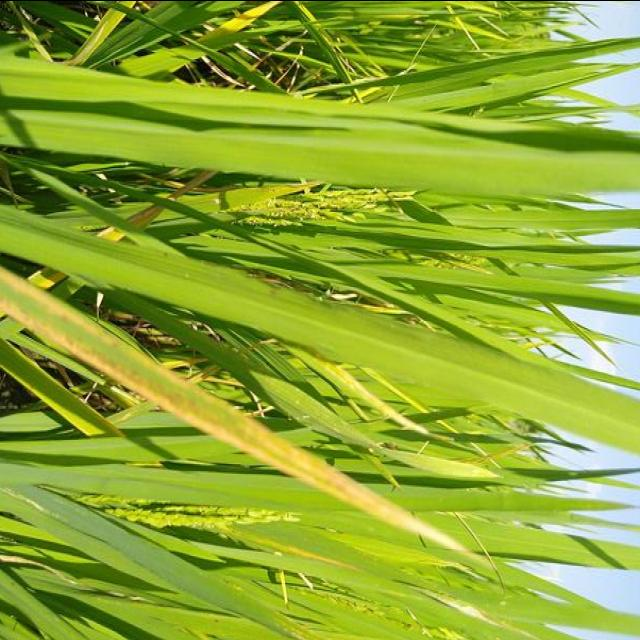Leaf Streak: (0, 264, 473, 554)
